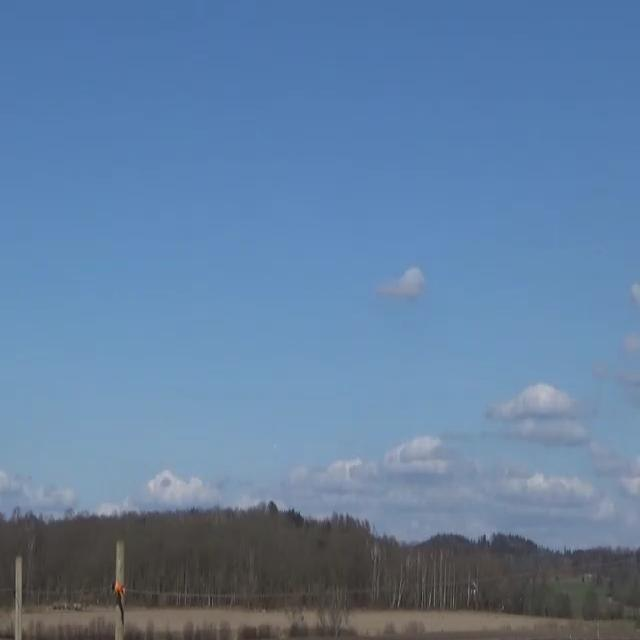Drone: (268, 434, 286, 458)
